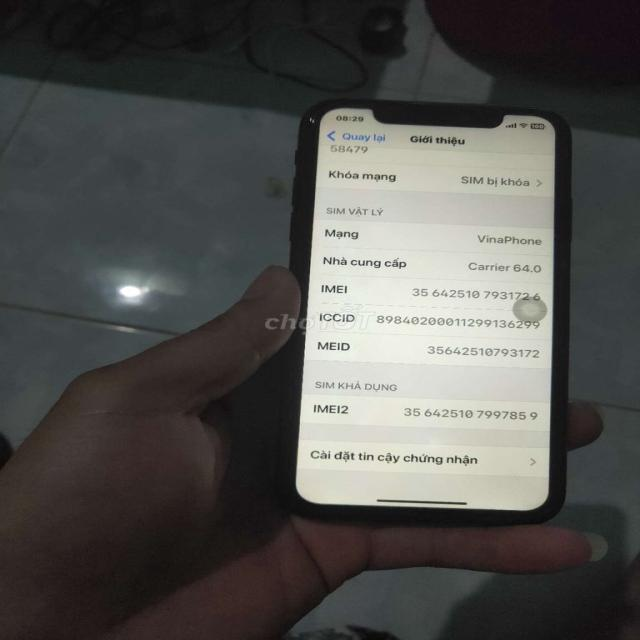gen_x_xs: (262, 99, 571, 526)
